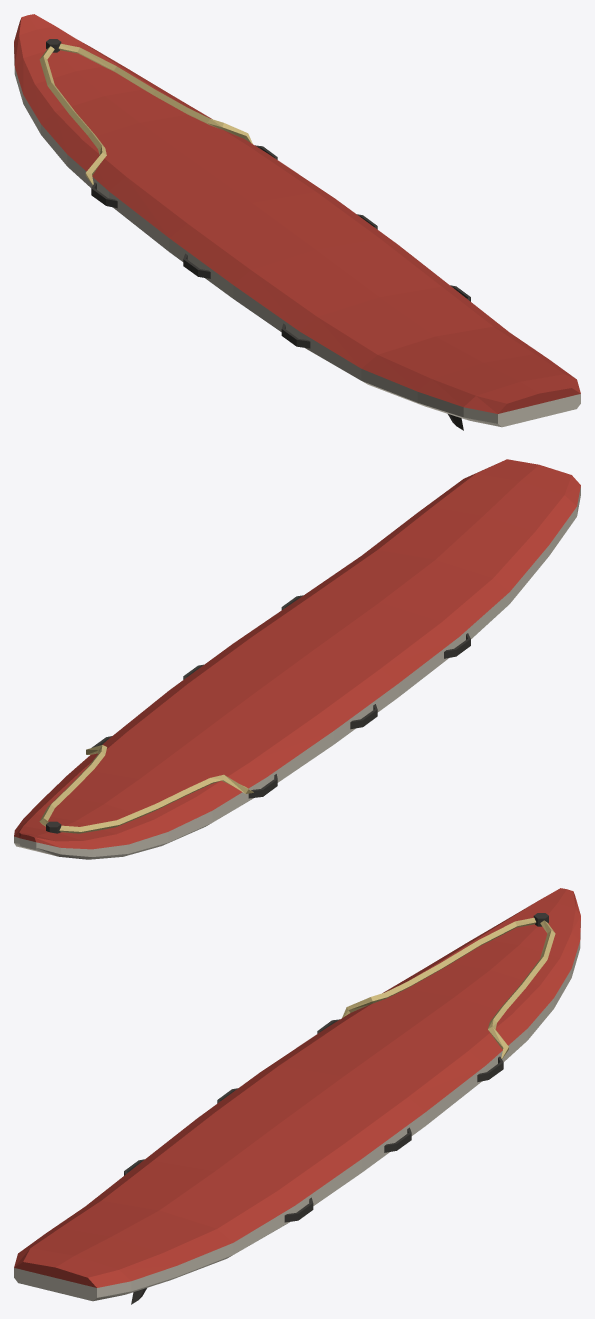
Rendered from rescue-and-paddle-board-79a2a0.glb.
3 renders of one model, top to bottom at view 1: azimuth 30°, elevation 25°; view 2: azimuth 150°, elevation 25°; view 3: azimuth 330°, elevation 25°, orthographic.
Parts seen in each view (by area): view 1: board; view 2: board; view 3: board.
Boxes of the visible parts, left/top/right/bottom form: board: left=14, top=14, right=580, bottom=430; board: left=14, top=459, right=580, bottom=859; board: left=14, top=888, right=580, bottom=1304.
Size of the model in its own units: 0.6498 by 0.2026 by 3.2.
